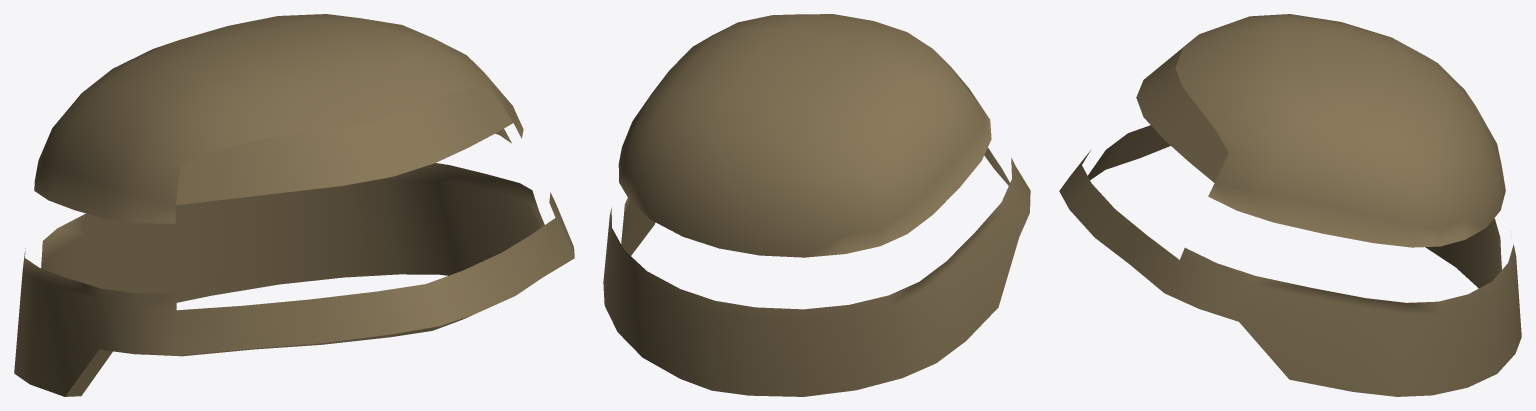
The model's file is helmet1.glb.
3 views of the same model, side by side, from view 1: azimuth 30°, elevation 25°; view 2: azimuth 150°, elevation 25°; view 3: azimuth 270°, elevation 25° (orthographic). The views are drawn at different scales.
Visible parts, largest first — view 1: item_helmet1; view 2: item_helmet1; view 3: item_helmet1.
Boxes of the visible parts, x1,y1,x2,y2 form: item_helmet1: (14,14,574,396); item_helmet1: (603,14,1030,396); item_helmet1: (1059,14,1521,396).
Bounding box in the file's own units: 0.2571 × 0.1866 × 0.27.
